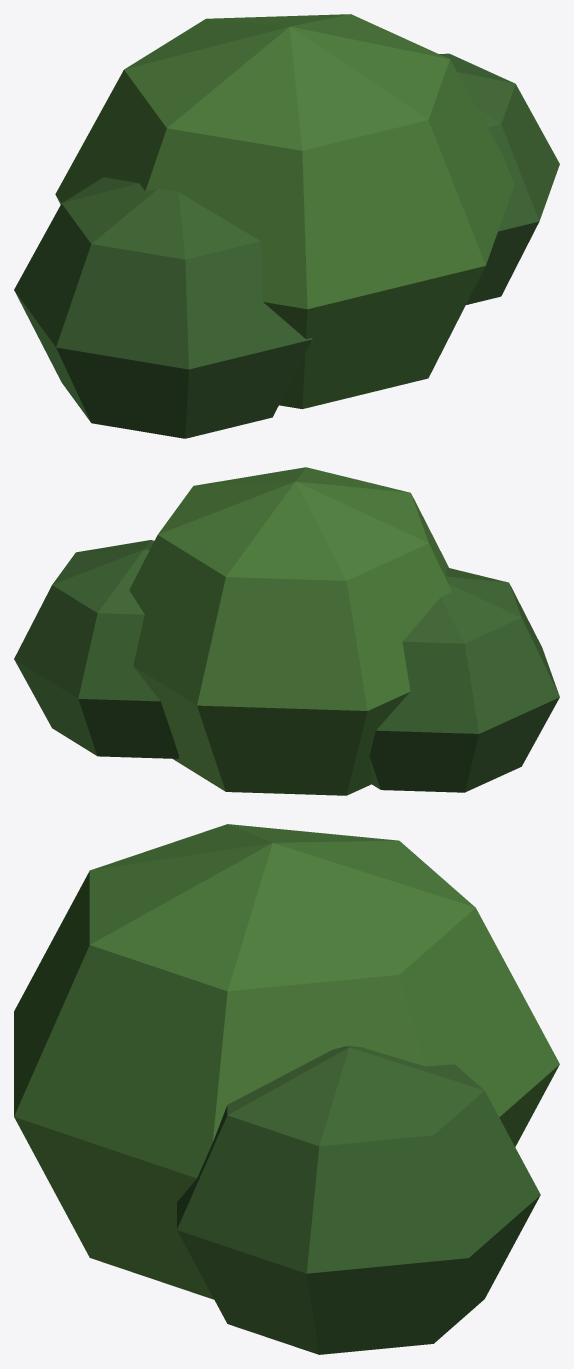
File: bush_round.glb
3 renders of one model, top to bottom at view 1: azimuth 30°, elevation 25°; view 2: azimuth 150°, elevation 25°; view 3: azimuth 270°, elevation 25°, orthographic. The views are drawn at different scales.
Visible parts, largest first — view 1: bush_round; view 2: bush_round; view 3: bush_round.
Boxes of the visible parts, x1=… form: bush_round: x1=14, y1=14, x2=559, y2=438; bush_round: x1=14, y1=467, x2=559, y2=795; bush_round: x1=14, y1=824, x2=559, y2=1354.
Size of the model in its own units: 2.04 by 1.28 by 1.43.
